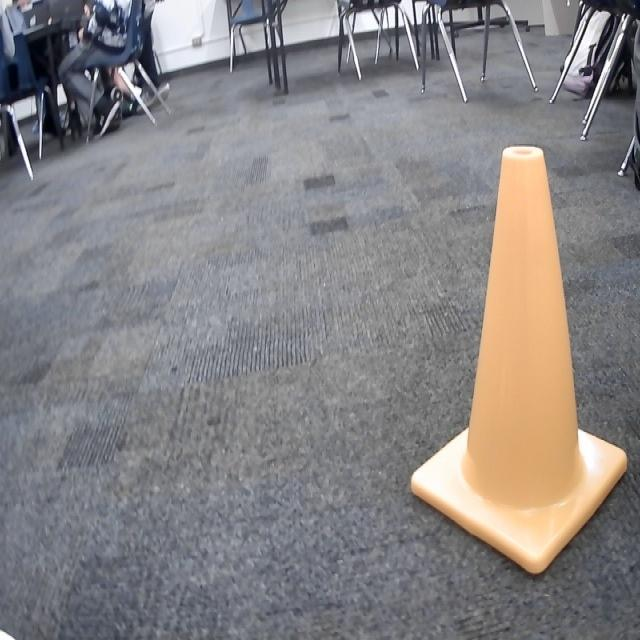cone: (408, 142, 630, 580)
